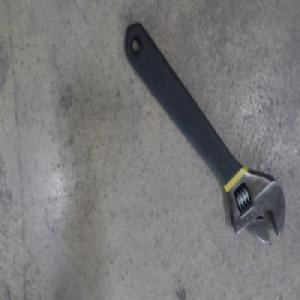AdjustableWrench: (124, 23, 285, 243)
